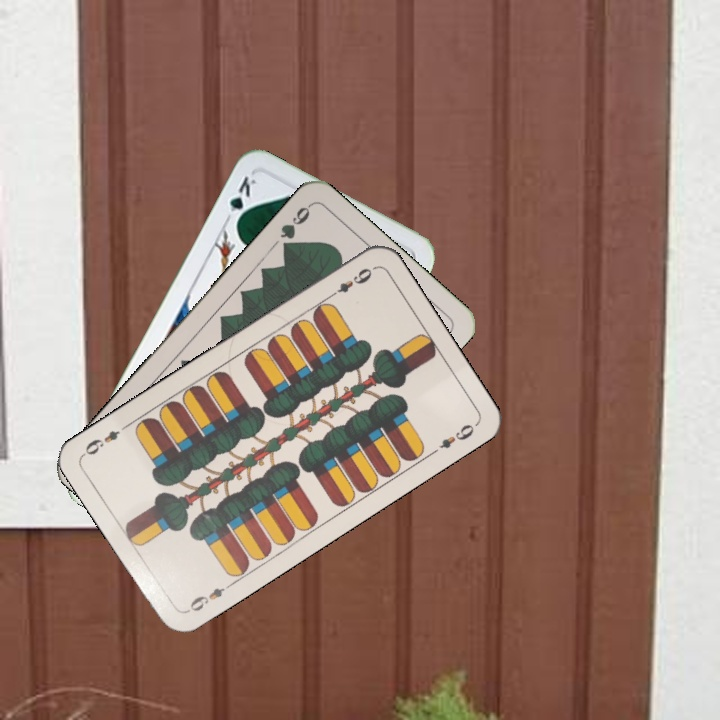E9: (182, 578, 236, 616), (324, 263, 377, 301)
G9: (276, 200, 314, 255)
GK: (221, 171, 259, 229)
